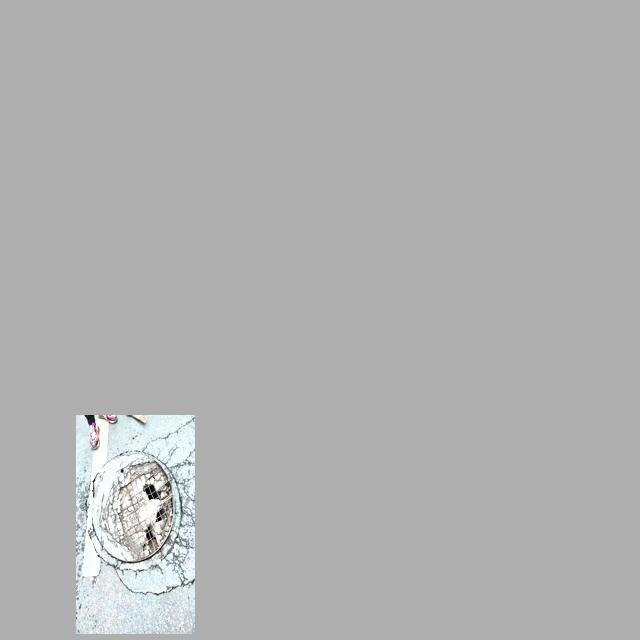broke: (87, 451, 175, 565)
